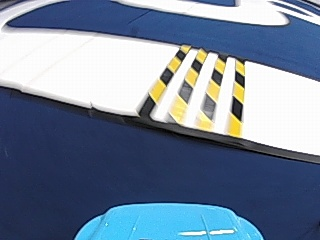bump: (131, 46, 255, 133)
